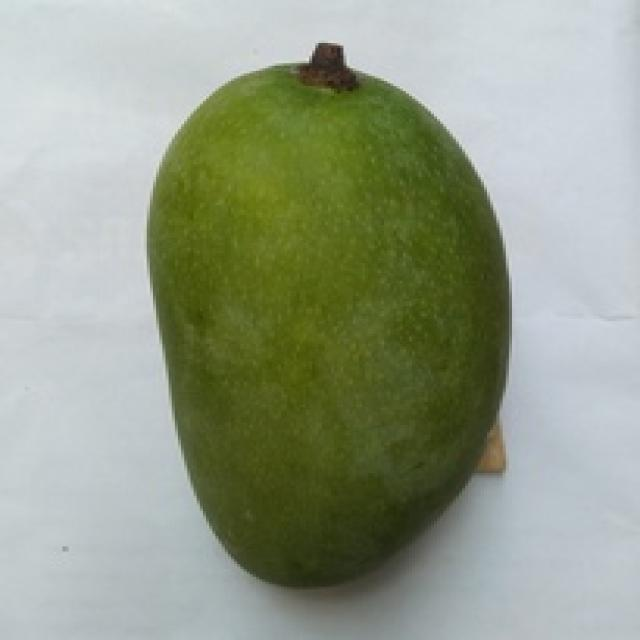Mango: (150, 63, 509, 579)
